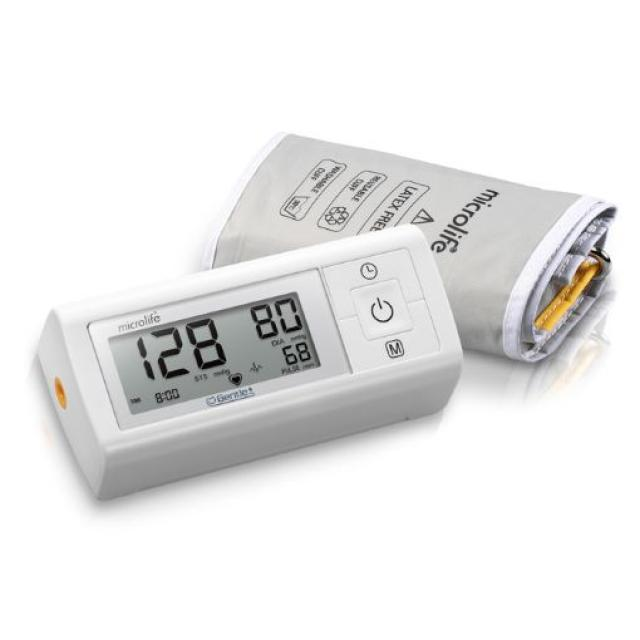dia: (243, 291, 308, 348)
pul: (275, 337, 317, 375)
ssd: (110, 289, 321, 417)
sys: (127, 310, 236, 390)
